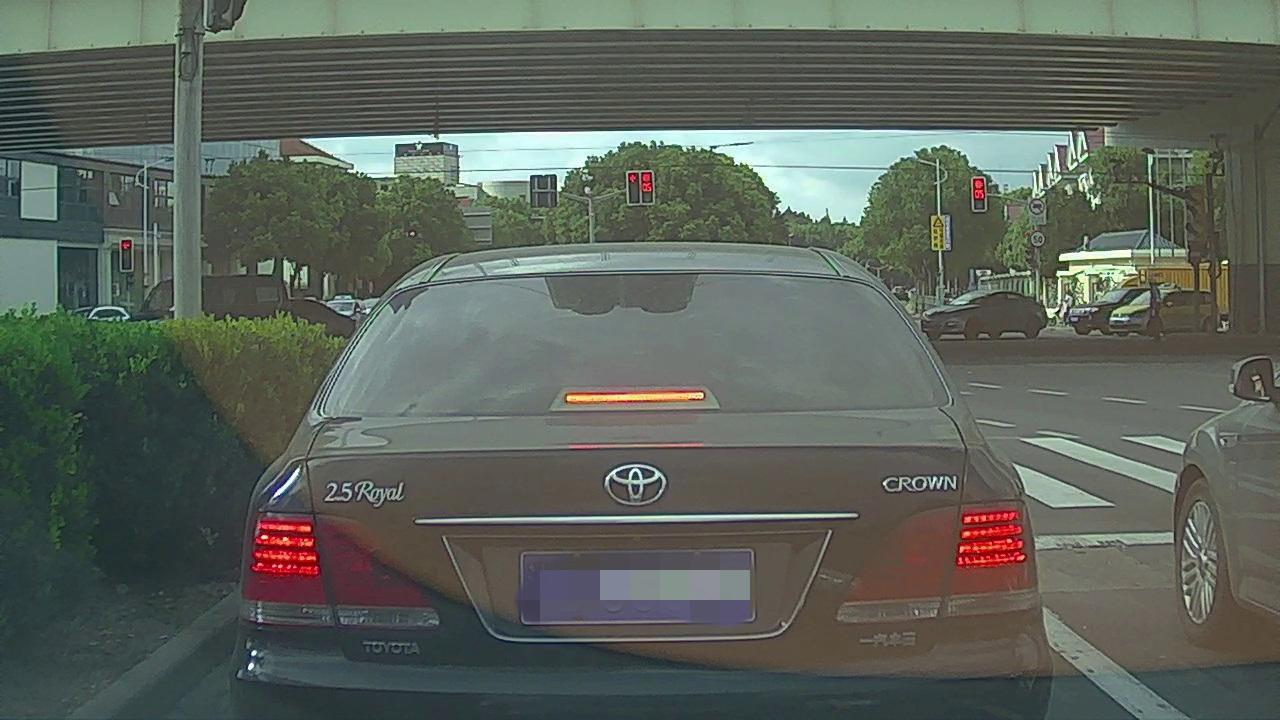traffic_light: (972, 178, 986, 210), (627, 171, 640, 205), (641, 170, 653, 203), (121, 240, 132, 271)
